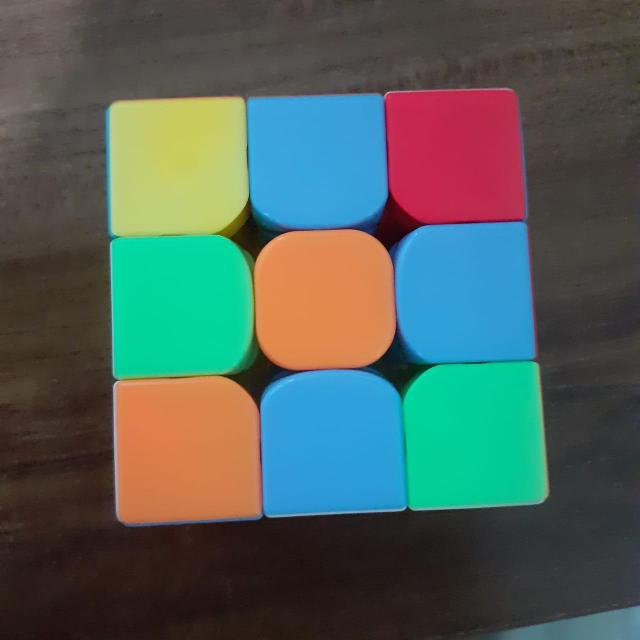Blue: (264, 370, 398, 518), (400, 225, 532, 362), (251, 95, 381, 223)
Green: (111, 238, 251, 376), (408, 364, 542, 508)
Orange: (116, 378, 254, 528), (259, 227, 393, 365)
Red: (394, 90, 512, 222)
Yellow: (109, 100, 244, 234)
